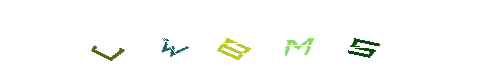B: (202, 0, 282, 80)
J: (101, 0, 181, 80)
M: (237, 0, 317, 80)
S: (323, 0, 403, 80)
W: (193, 0, 273, 80)
